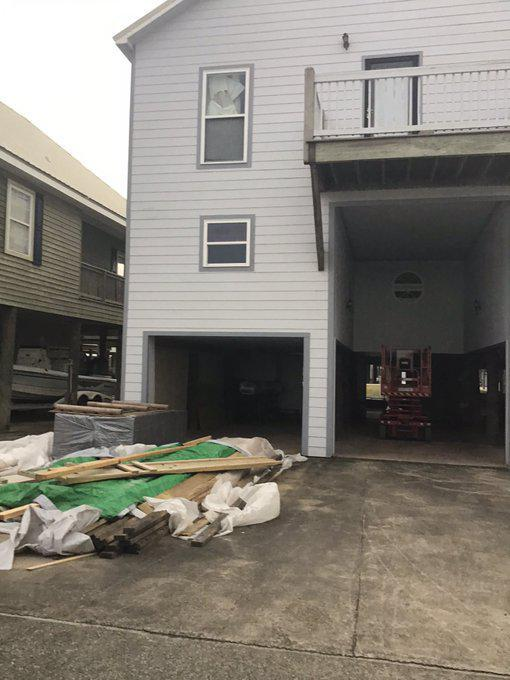affected: (109, 0, 510, 487)
